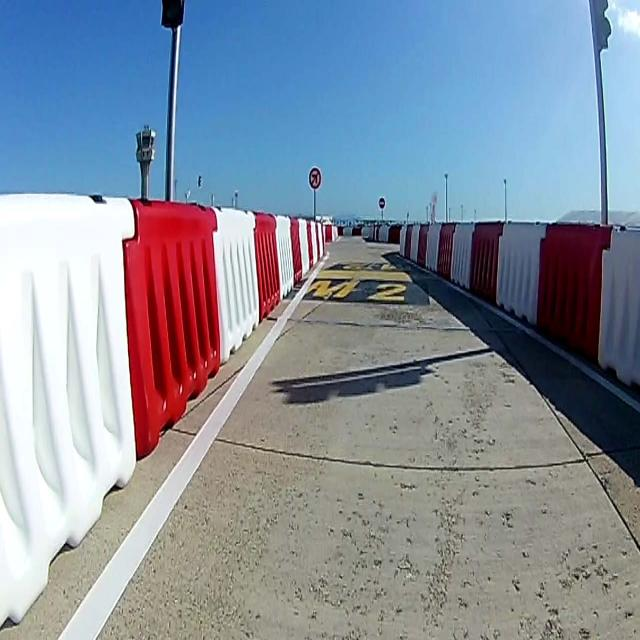girisyok: (378, 197, 386, 208)
soladonulmez: (309, 167, 321, 189)
